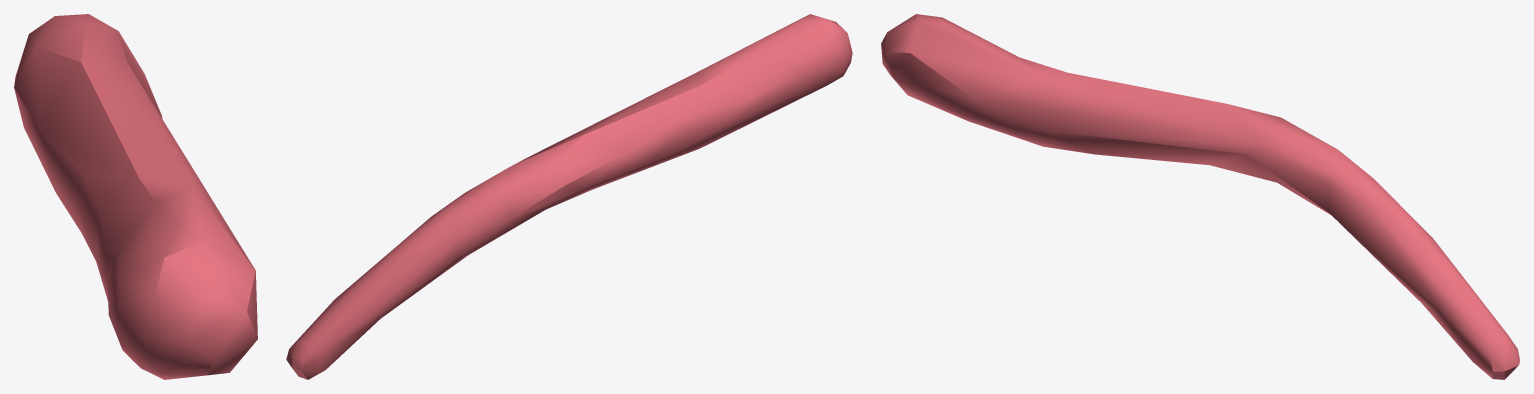
File: fma66403_fj2664.glb
3 renders of one model, left to right at view 1: azimuth 30°, elevation 25°; view 2: azimuth 150°, elevation 25°; view 3: azimuth 270°, elevation 25°, orthographic. The views are drawn at different scales.
Parts seen in each view (by area): view 1: FMA66403_FJ2664; view 2: FMA66403_FJ2664; view 3: FMA66403_FJ2664.
Boxes of the visible parts, x1=… form: FMA66403_FJ2664: x1=14, y1=14, x2=257, y2=379; FMA66403_FJ2664: x1=286, y1=14, x2=852, y2=379; FMA66403_FJ2664: x1=881, y1=14, x2=1519, y2=379.
Size of the model in its own units: 0.00604 by 0.00441 by 0.0108.
